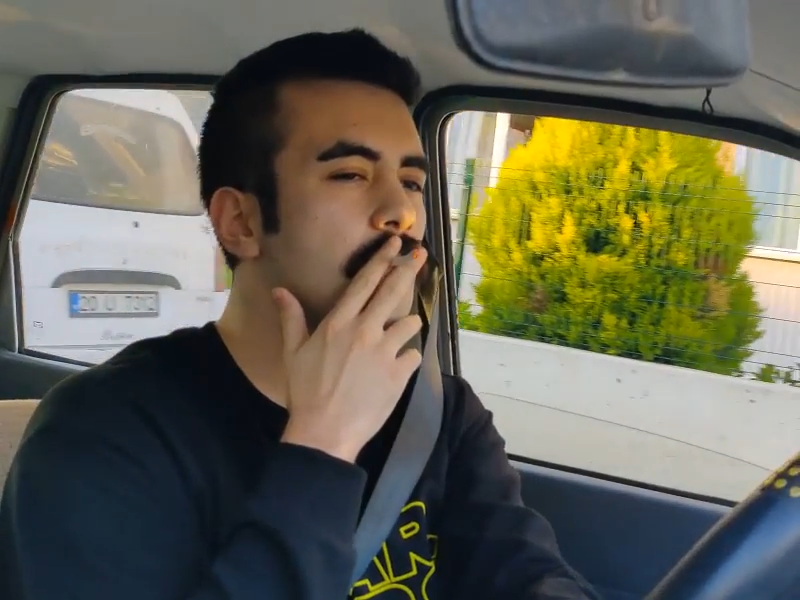sigara: (379, 244, 425, 271)
